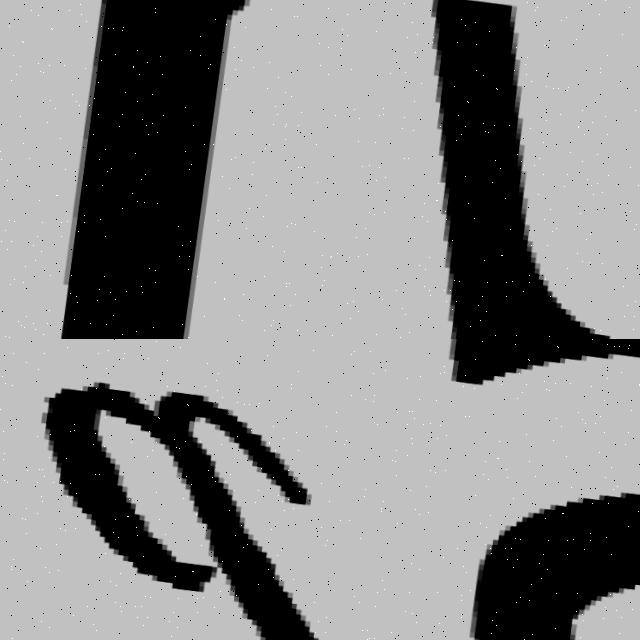D: (0, 355, 358, 640)
H: (358, 0, 640, 339)
L: (0, 0, 281, 339)
S: (366, 339, 640, 640)
